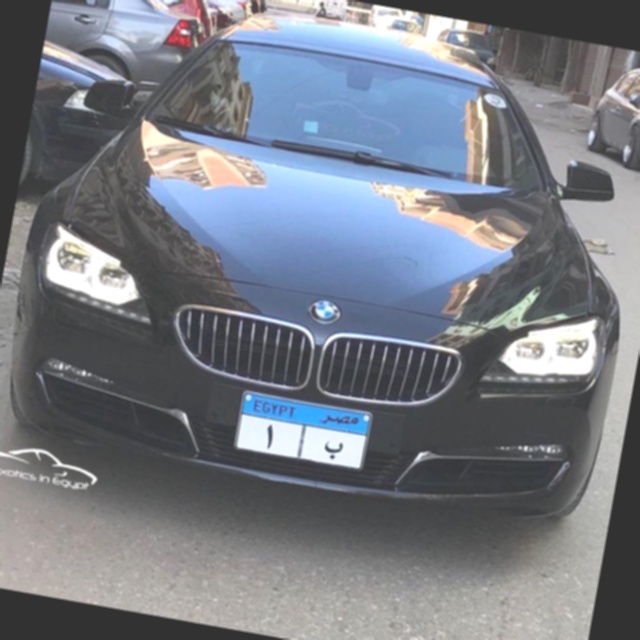License Plate: (231, 387, 376, 476)
